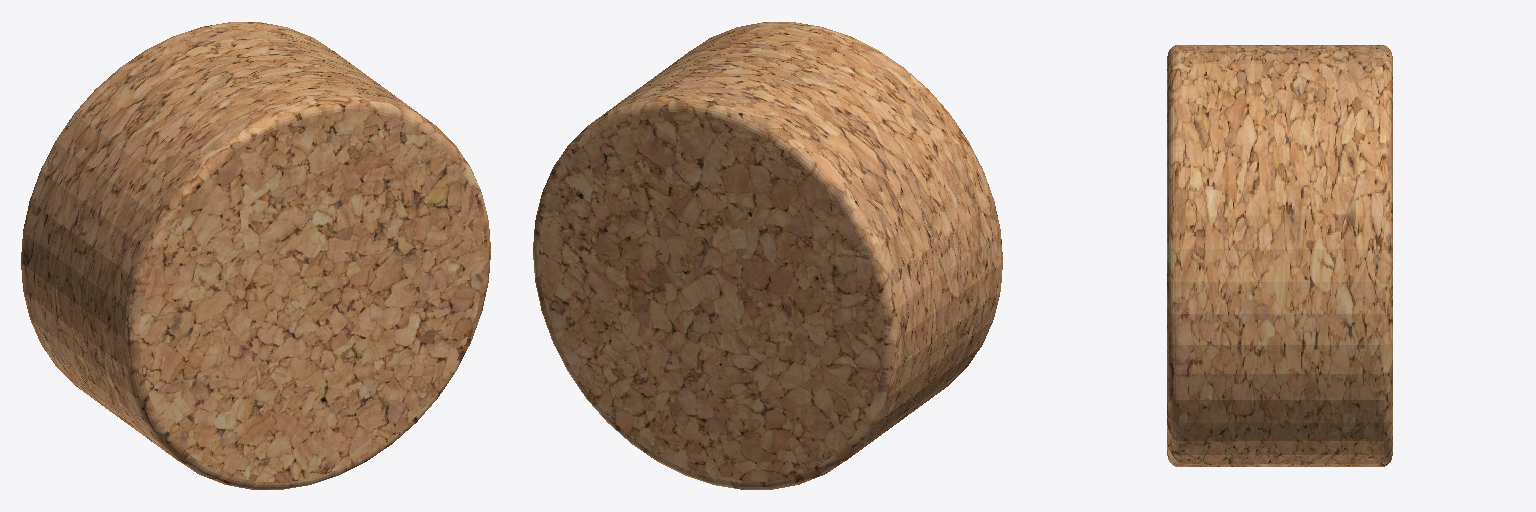
3 renders of one model, left to right at view 1: azimuth 30°, elevation 25°; view 2: azimuth 150°, elevation 25°; view 3: azimuth 270°, elevation 25°, orthographic.
Bounding box in the file's own units: 0.2242 × 0.2242 × 0.1192.
Materials: 1 (1 with a texture image).